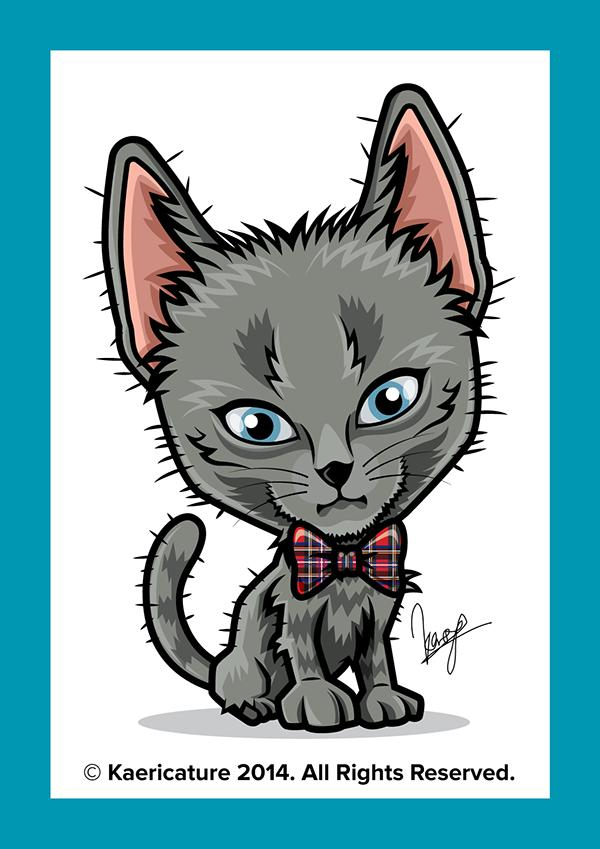cat: (100, 80, 500, 731)
